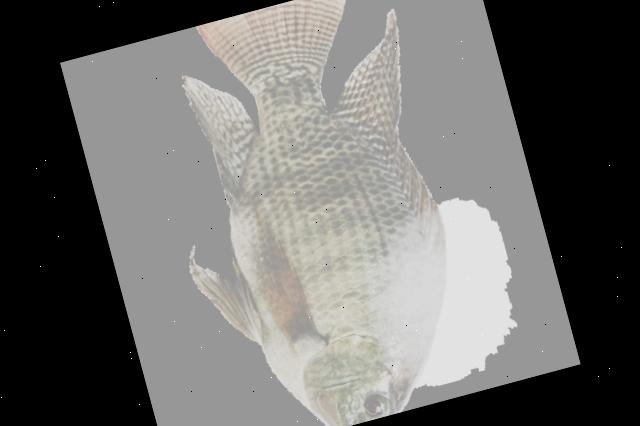Fungal Disease -Saprolegniasis-: (182, 0, 444, 426)
